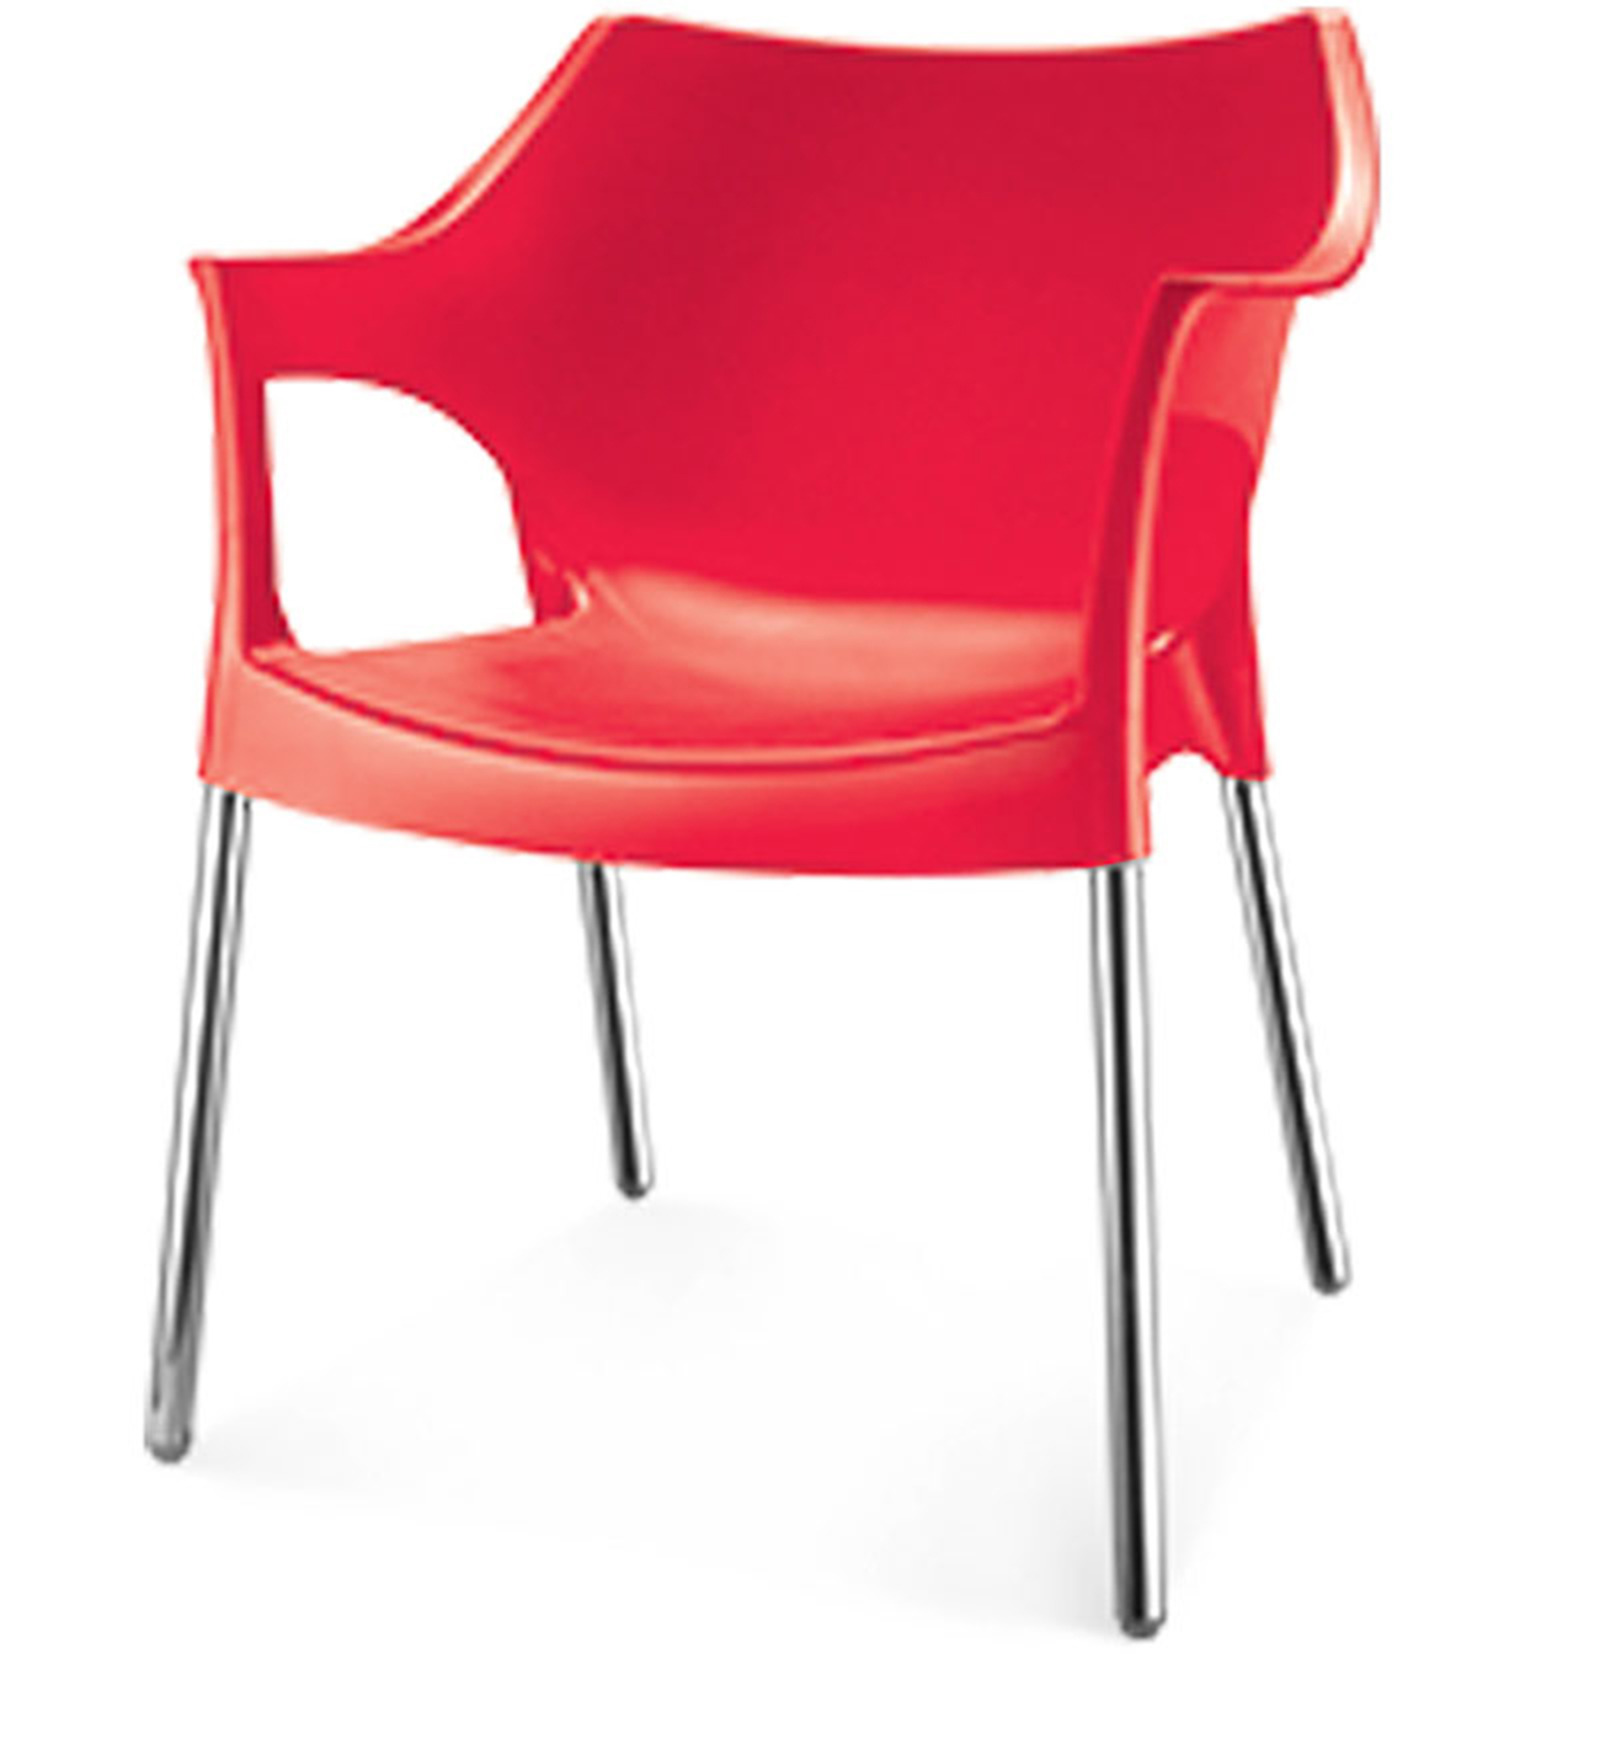Novella Chair in Red Colour by Nilkamal: (136, 5, 1367, 1637)
